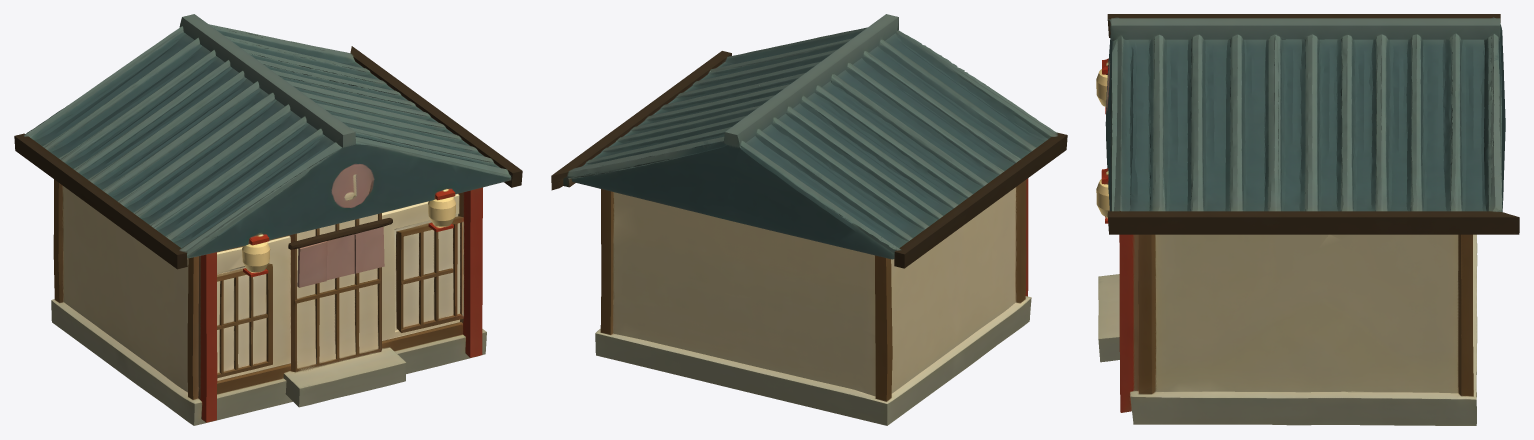
The model's file is source.glb.
3 renders of one model, left to right at view 1: azimuth 30°, elevation 25°; view 2: azimuth 150°, elevation 25°; view 3: azimuth 270°, elevation 25°, orthographic. The views are drawn at different scales.
Parts seen in each view (by area): view 1: model; view 2: model; view 3: model.
Boxes of the visible parts, x1,y1,x2,y2 form: model: [14, 14, 522, 425]; model: [551, 14, 1067, 425]; model: [1096, 14, 1519, 425].
Size of the model in its own units: 1.9 by 1.39 by 1.67.
1 material, 1 textured.
